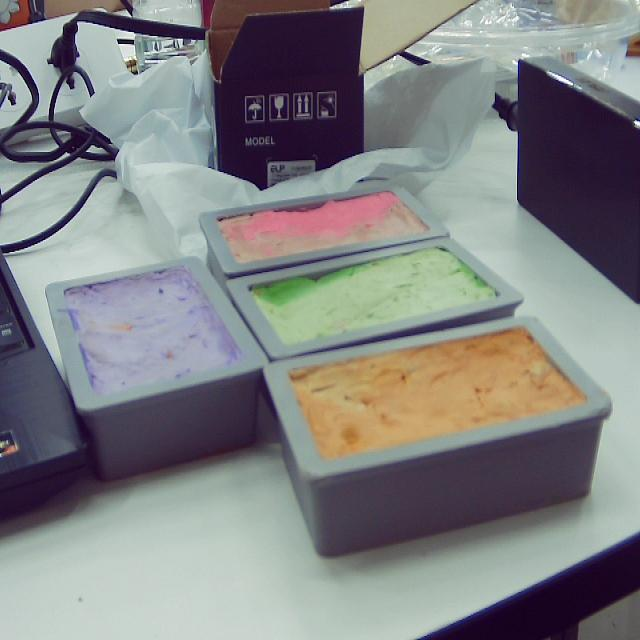block: (264, 312, 613, 554), (41, 255, 268, 481), (219, 236, 522, 365), (198, 184, 450, 281)
